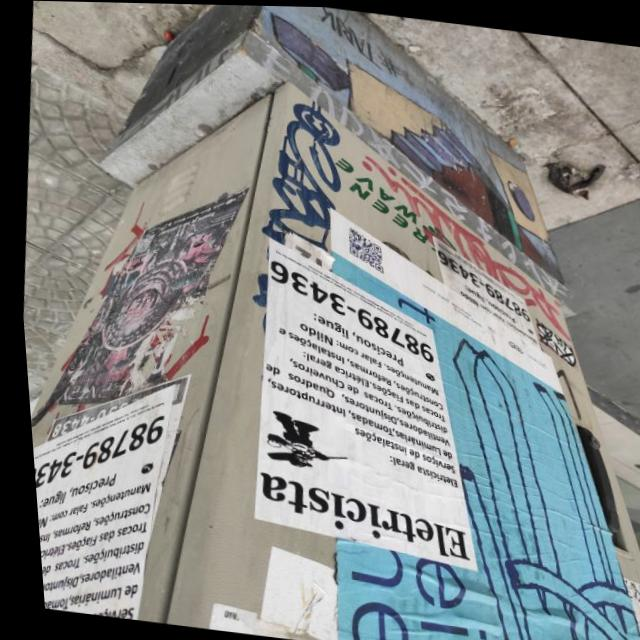qrcode: (341, 226, 383, 271)
